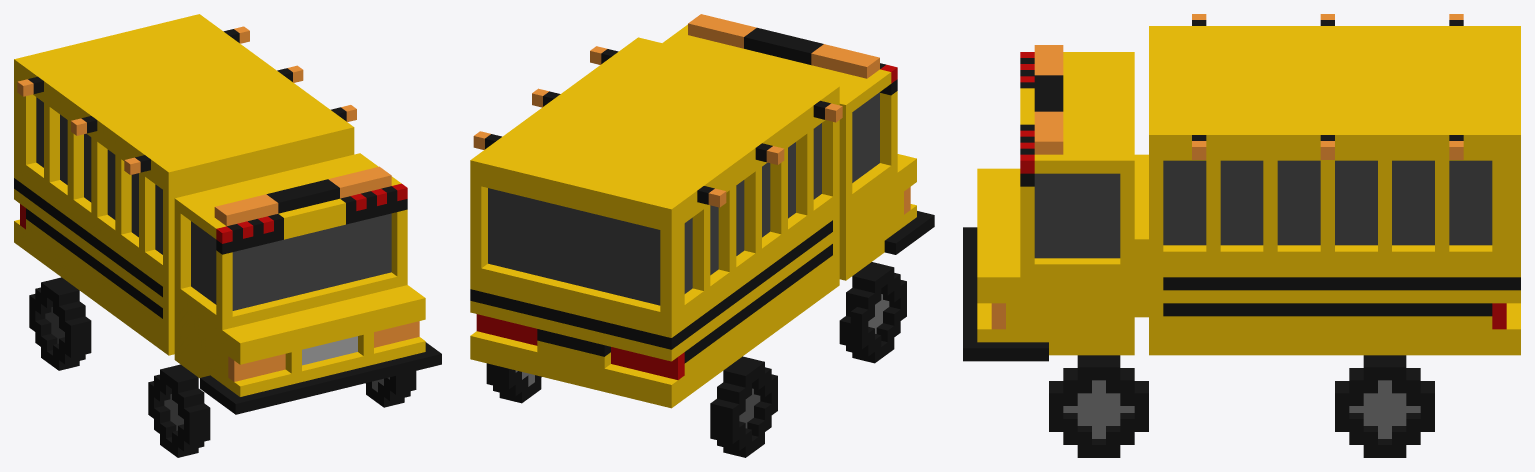
Rendered from yellow_truck.vox.obj.
3 renders of one model, left to right at view 1: azimuth 30°, elevation 25°; view 2: azimuth 150°, elevation 25°; view 3: azimuth 270°, elevation 25°, orthographic. The views are drawn at different scales.
Bounding box in the file's own units: 2.2 × 2.4 × 3.9.
Materials: 1 (1 with a texture image).
